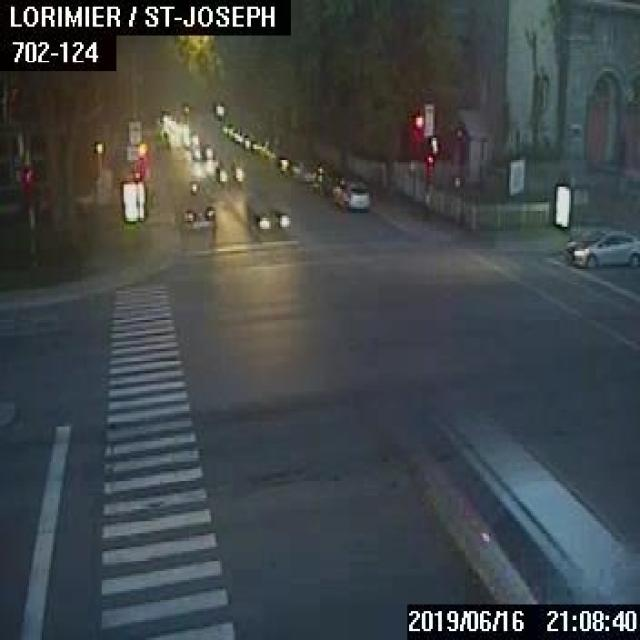vehicle: (467, 477, 638, 602), (563, 227, 638, 268), (243, 194, 289, 230), (181, 194, 214, 230), (332, 177, 369, 209), (305, 165, 338, 196), (214, 158, 242, 184), (289, 159, 315, 181), (191, 142, 213, 160)
